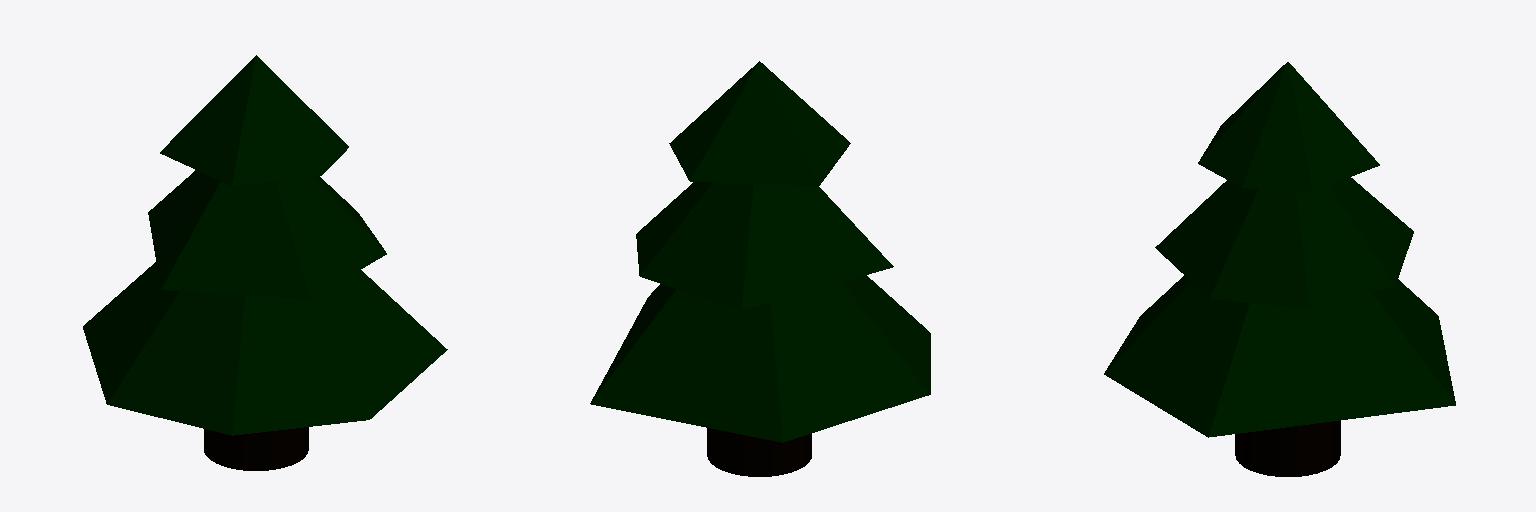
File: tree.obj
The picture shows the model from 3 angles: view 1: azimuth 30°, elevation 25°; view 2: azimuth 150°, elevation 25°; view 3: azimuth 270°, elevation 25°; orthographic projection.
Parts seen in each view (by area): view 1: Cone; view 2: Cone; view 3: Cone.
Part boxes in pixels (left/top/right/bottom): Cone: left=83, top=55, right=447, bottom=470; Cone: left=590, top=61, right=930, bottom=476; Cone: left=1104, top=62, right=1455, bottom=476.
Bounding box in the file's own units: 3.94 × 4.76 × 3.86.